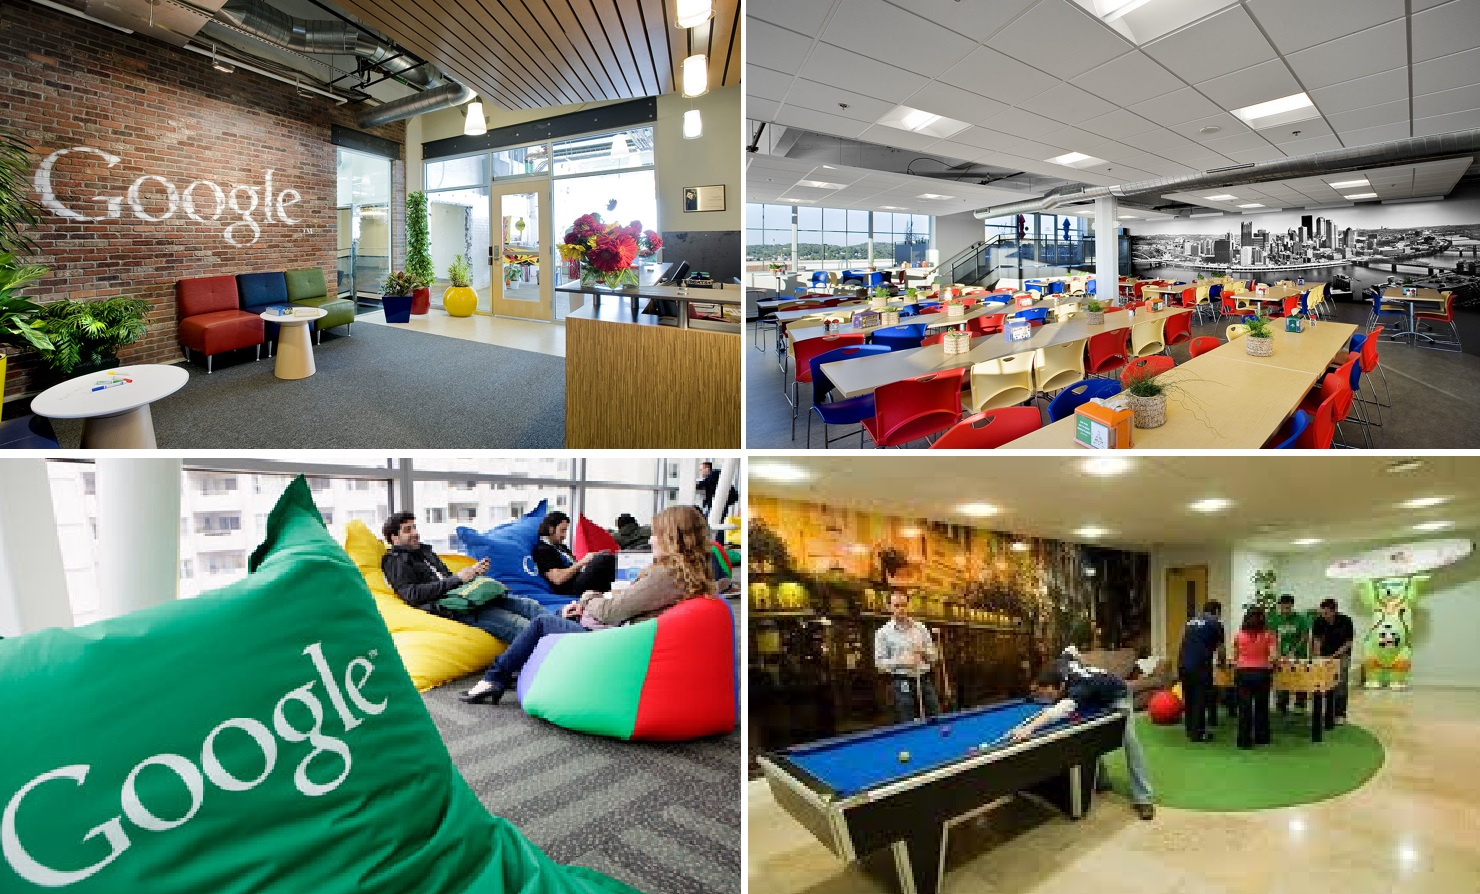google: (1, 639, 397, 888), (25, 117, 311, 245)
